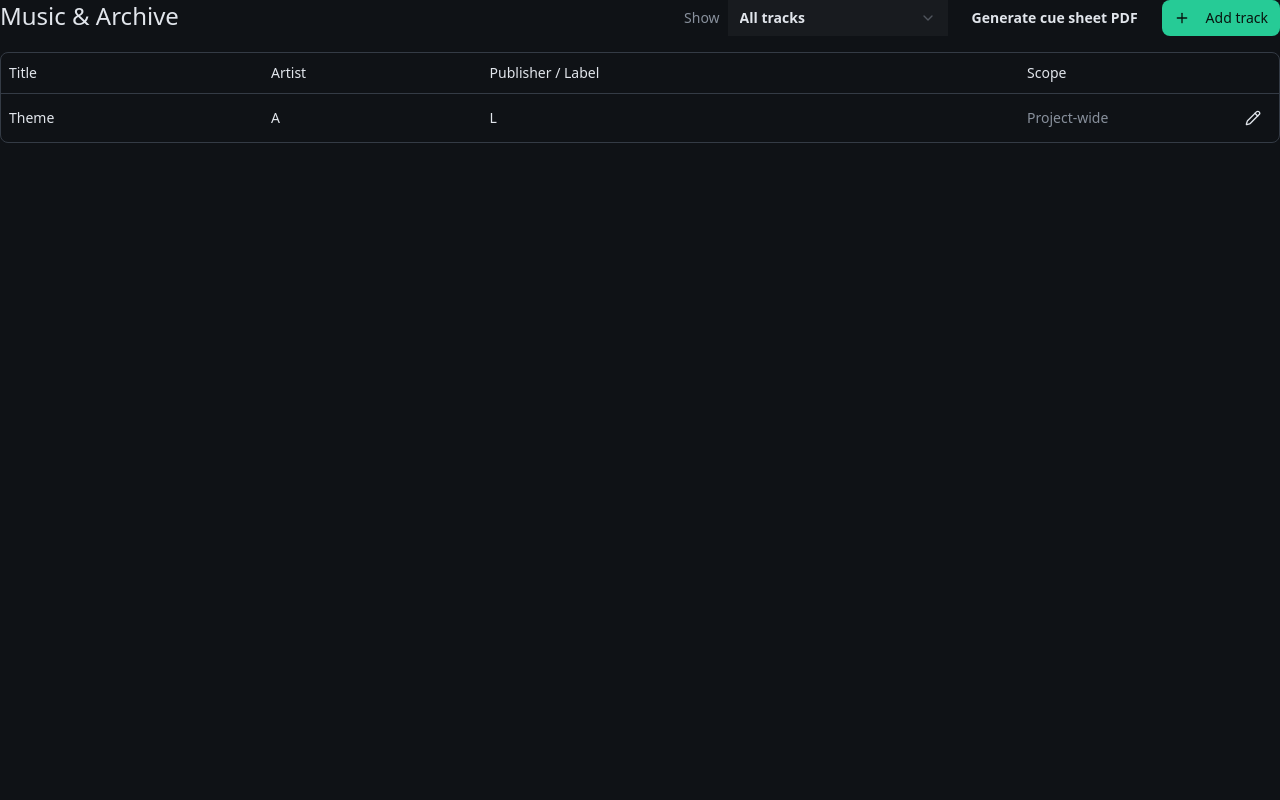
Test: MusicClearancePage episodic UI › episodic: shows filter, scope column, and applies-to in add dialog
This screenshot has width=1280, height=800.
Check: the text "Show" is shown, box [684,8,720,28]
Check: the text "All tracks" is shown, box [740,8,805,28]
Click the button "Add track": coordinates (1221, 18) [1162,0,1279,36]
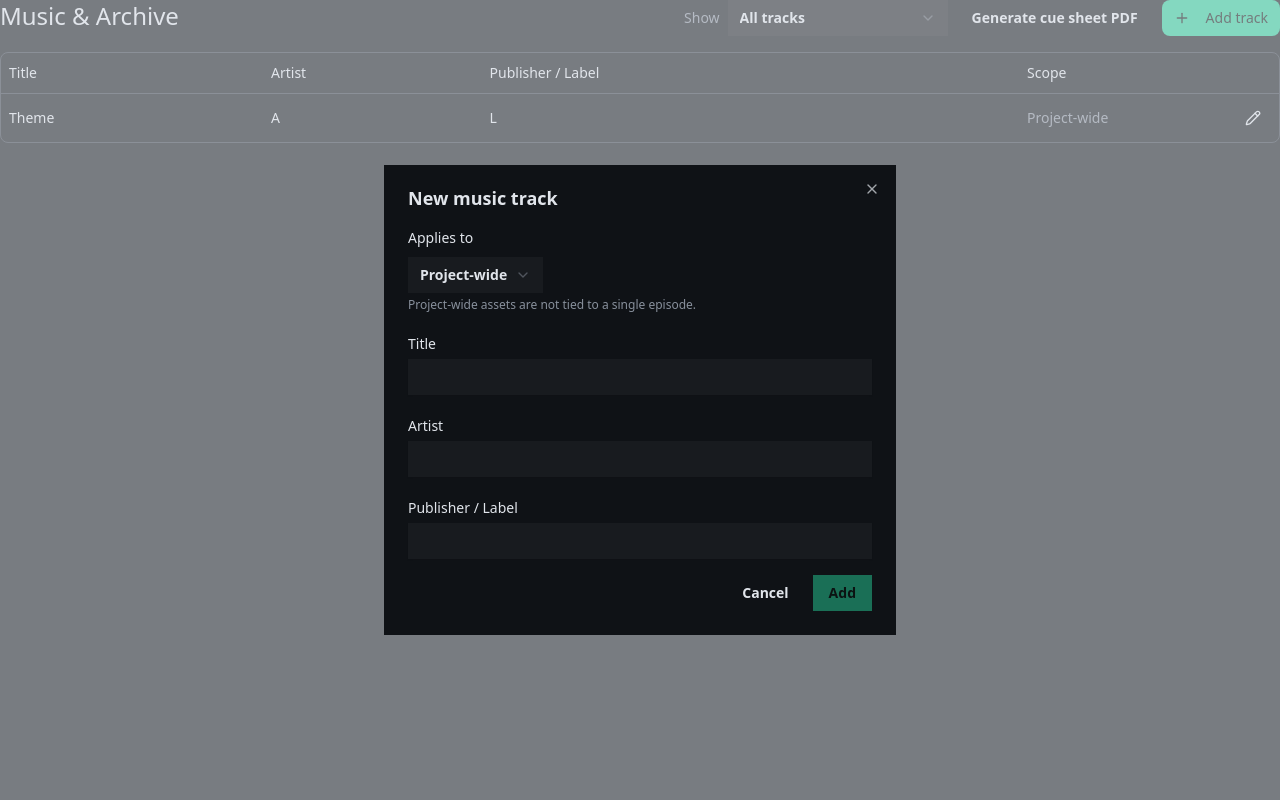
Check: the text "Applies to" is shown, box [408,228,473,247]
Check: the text "Project-wide assets are not tied to a single episode." is shown, box [408,296,696,313]
